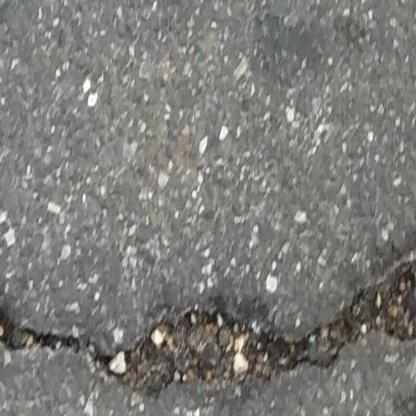Cracks: (92, 254, 416, 402), (0, 305, 84, 356)
